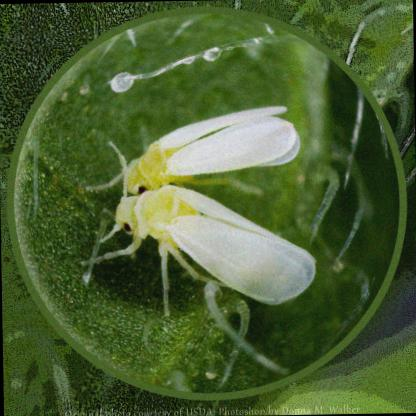whitefly: (107, 190, 314, 306), (120, 107, 302, 195)
